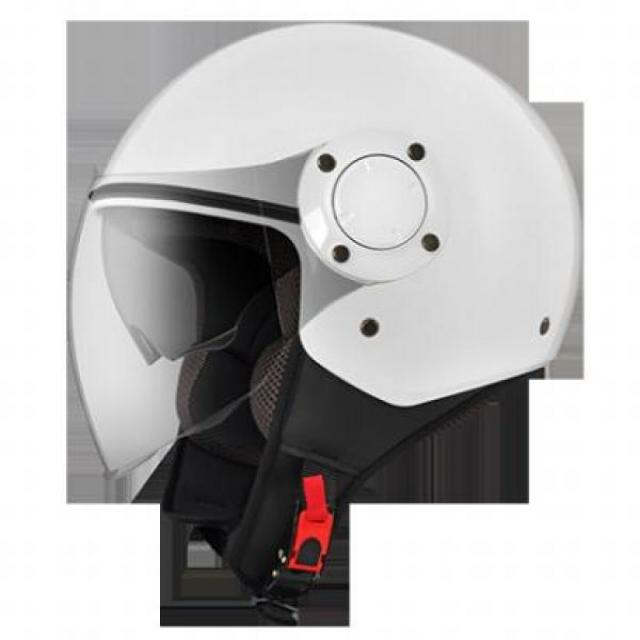Helmet: (74, 21, 581, 501)
